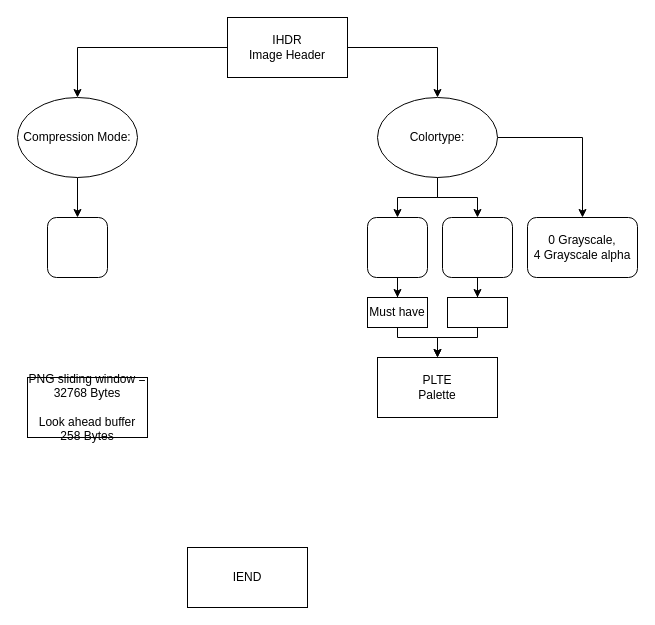
Some shapes in this 655 by 625 pixel diagram are drawn without their labels. Each missing label, with the centre of its shape:
0 Only option: point (77, 247)
2 true color, 6 true color aplha: point (477, 247)
3 Index color: point (397, 247)
May have: point (477, 312)
